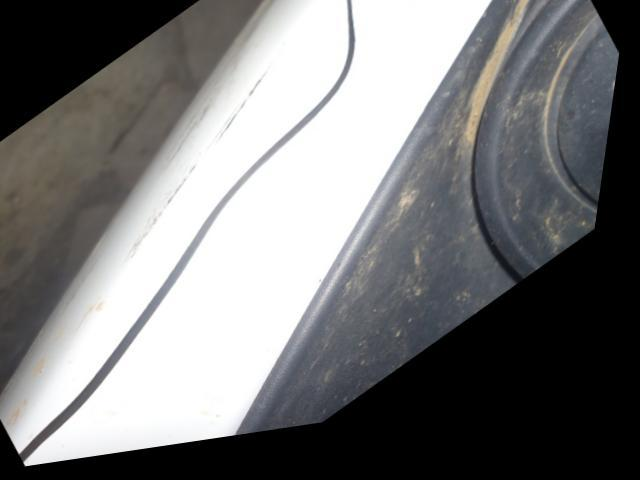scratch: (149, 102, 224, 200), (129, 170, 205, 265), (220, 0, 289, 88), (212, 83, 270, 160), (65, 258, 113, 318), (203, 115, 244, 167), (83, 302, 119, 342), (17, 394, 48, 431), (41, 354, 60, 384)
